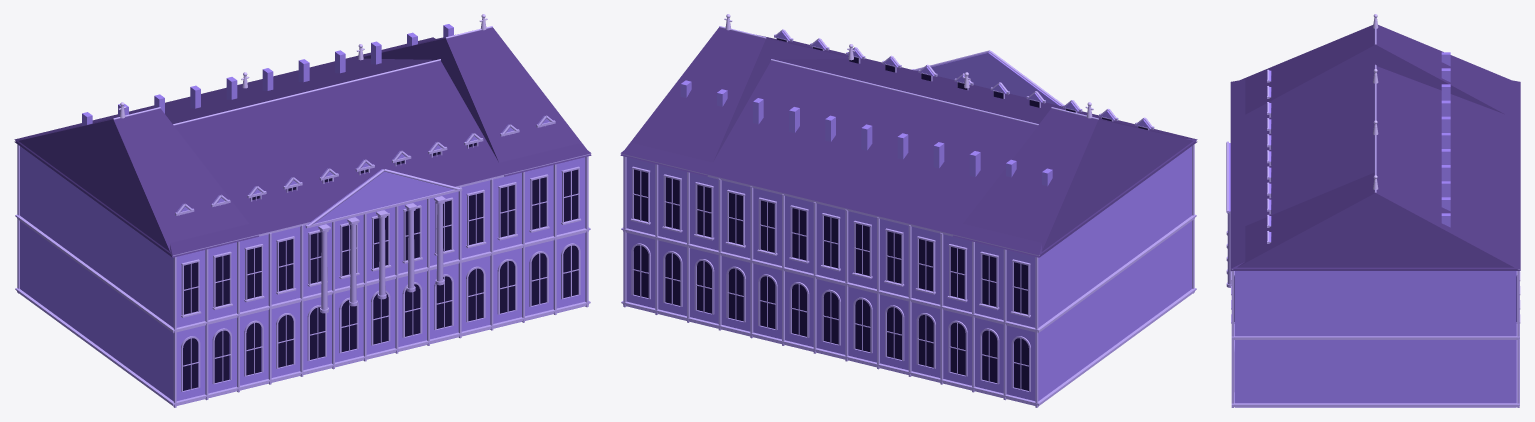
The model's file is parlement_violet_light.glb.
The picture shows the model from 3 angles, left to right: view 1: azimuth 30°, elevation 25°; view 2: azimuth 150°, elevation 25°; view 3: azimuth 270°, elevation 25°; orthographic projection. The views are drawn at different scales.
Visible parts, largest first — view 1: Violet slate, Violet stone, Lavender carved stone, Recessed glazing; view 2: Violet slate, Violet stone, Lavender carved stone, Recessed glazing; view 3: Violet slate, Violet stone, Lavender carved stone, Pale violet trim.
Part boxes in pixels (bbox=[...]): Violet slate: bbox=[14, 27, 591, 257]; Violet stone: bbox=[20, 24, 585, 405]; Lavender carved stone: bbox=[15, 26, 590, 407]; Recessed glazing: bbox=[183, 143, 578, 390]; Violet slate: bbox=[620, 27, 1197, 257]; Violet stone: bbox=[626, 31, 1191, 405]; Lavender carved stone: bbox=[621, 26, 1196, 407]; Recessed glazing: bbox=[633, 38, 1147, 390]; Violet slate: bbox=[1230, 25, 1520, 270]; Violet stone: bbox=[1229, 52, 1516, 407]; Lavender carved stone: bbox=[1226, 28, 1520, 407]; Pale violet trim: bbox=[1373, 14, 1378, 189].
Bounding box in the file's own units: 58.07 × 32 × 38.62.
